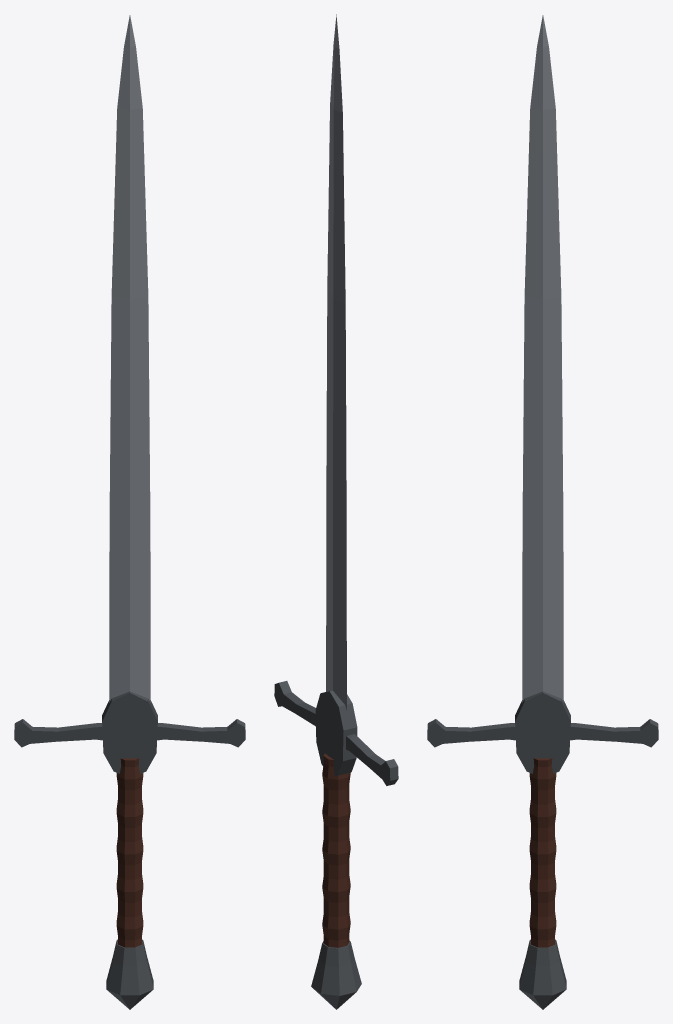
Rendered from WP_Longsword_05.glb.
3 renders of one model, left to right at view 1: azimuth 90°, elevation 25°; view 2: azimuth 210°, elevation 25°; view 3: azimuth 270°, elevation 25°, orthographic.
Parts seen in each view (by area): view 1: WP_Longsword_05; view 2: WP_Longsword_05; view 3: WP_Longsword_05.
Part boxes in pixels (x1,y1,x2,y2): WP_Longsword_05: (14, 15, 245, 1009); WP_Longsword_05: (274, 14, 398, 1009); WP_Longsword_05: (427, 15, 658, 1009).
Size of the model in its own units: 0.0591 by 1.37 by 0.289.
